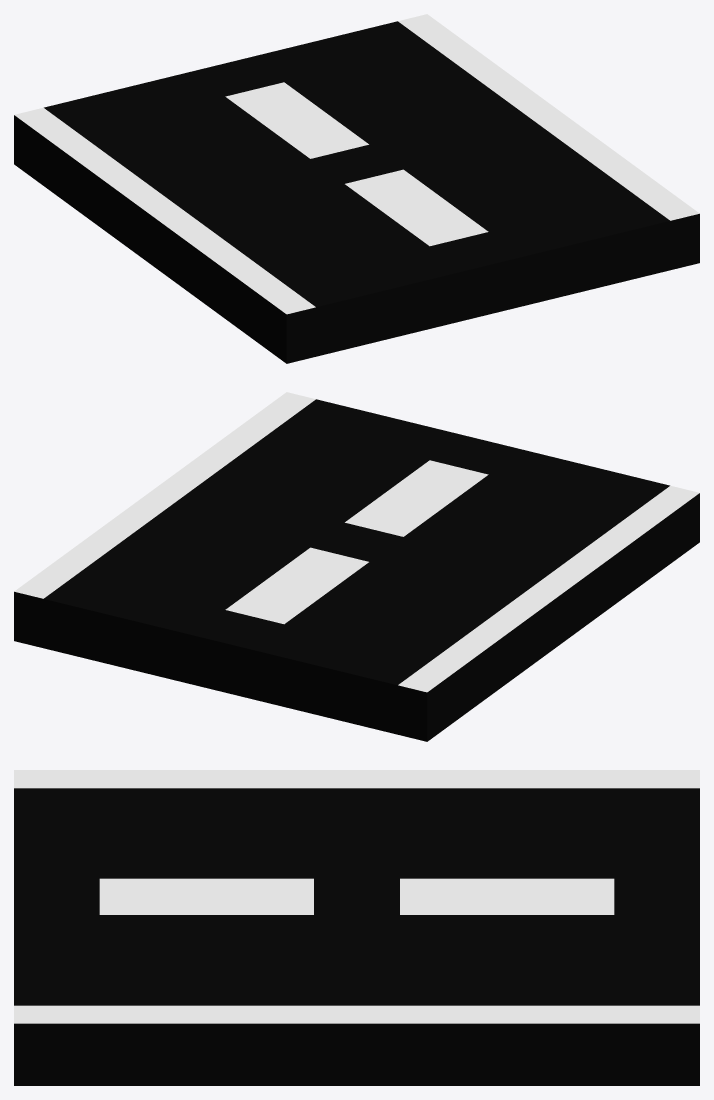
Rendered from road-road.fbx.
The picture shows the model from 3 angles, top to bottom: view 1: azimuth 30°, elevation 25°; view 2: azimuth 150°, elevation 25°; view 3: azimuth 270°, elevation 25°; orthographic projection. The views are drawn at different scales.
Visible parts, largest first — view 1: Куб; view 2: Куб; view 3: Куб.
Part boxes in pixels (<box>): Куб: <box>14,14,699,363</box>; Куб: <box>14,392,699,741</box>; Куб: <box>14,770,699,1085</box>.
Size of the model in its own units: 175 by 20 by 200.
